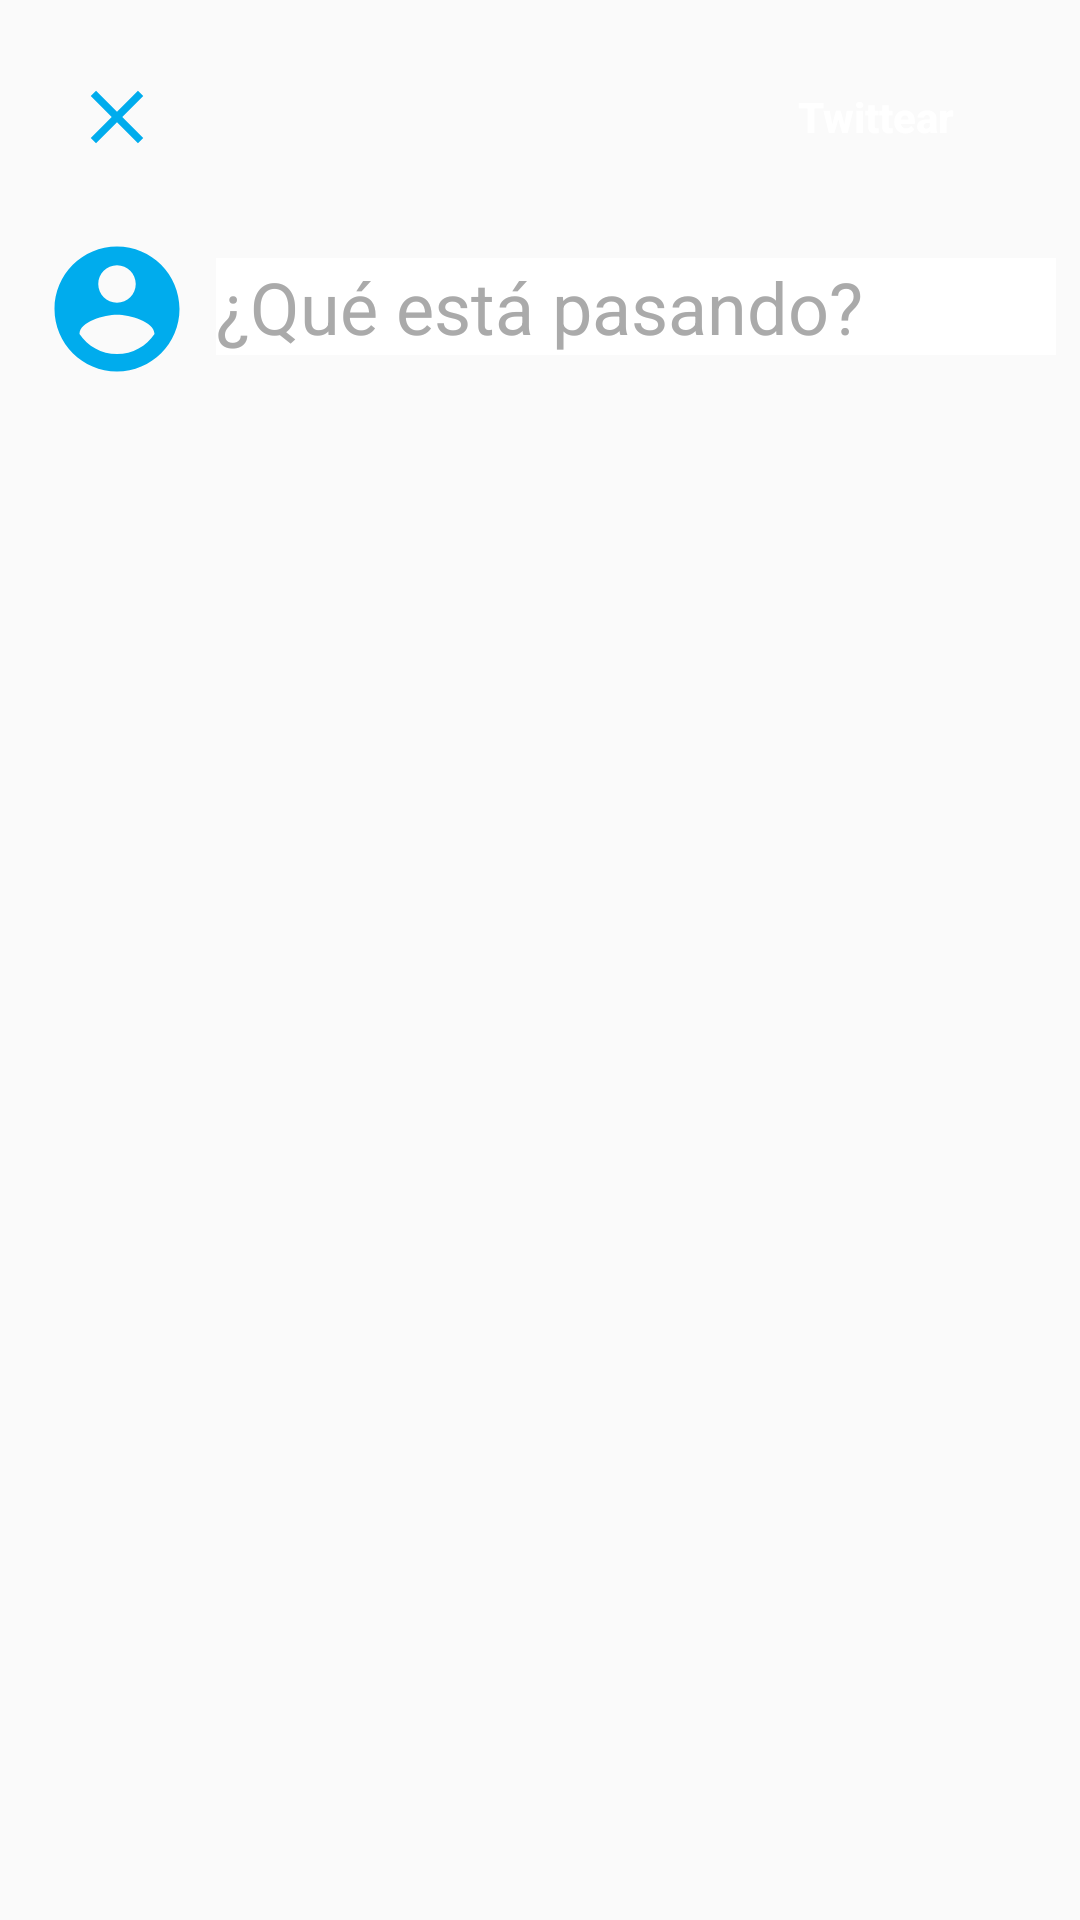

Icon click points for this 1080 × 1920 phone screenshot, format point (x, y):
account circle azul: point (117, 309)
close: point (117, 117)
